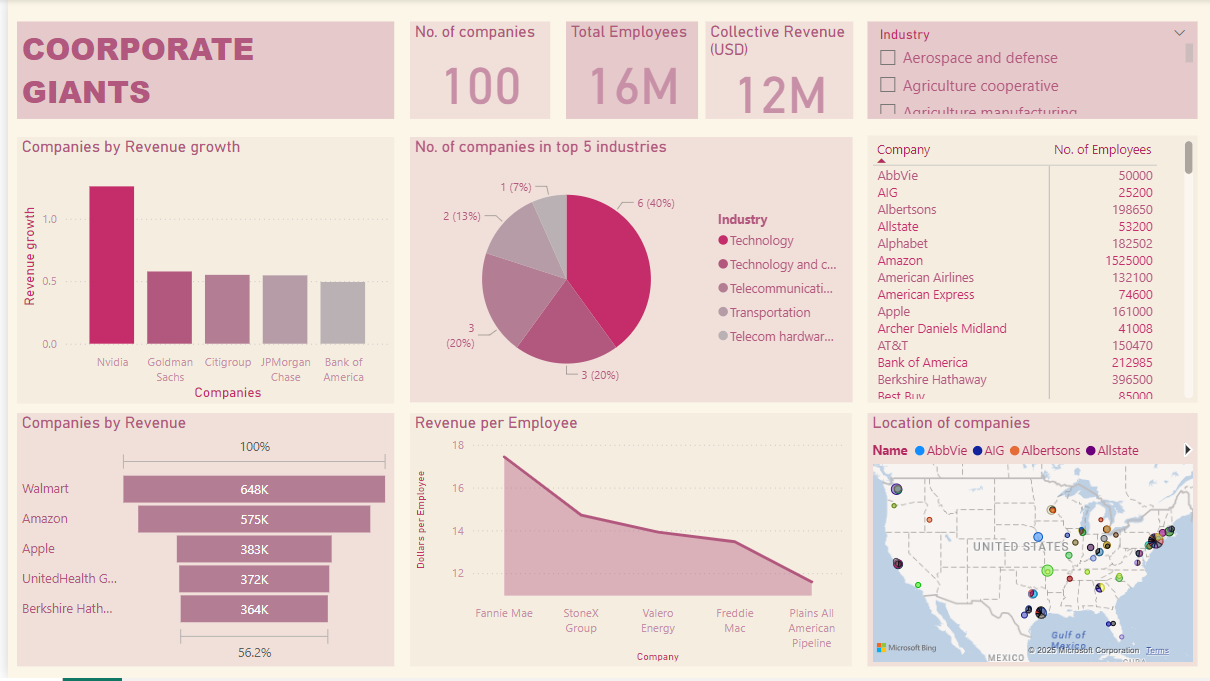

Layout of this report page (visuals, bound fields, positions):
{"tool":"powerbi","page":{"name":"Page 1","canvas":[1280,720],"ordinal":0},"visuals":[{"type":"clusteredColumnChart","title":"Companies by Revenue growth","fields":{"Y":["Sum(WebScrape.Revenue growth)"],"Category":["WebScrape.Name"]},"box":[10,145.7,400,282.9],"z":0},{"type":"pivotTable","fields":{"Rows":["WebScrape.Name"],"Values":["Sum(WebScrape.Employees)"]},"box":[911.7,145,350,283.3],"z":1000},{"type":"pieChart","title":"No. of companies in top 5 industries","fields":{"Y":["CountNonNull(WebScrape.Industry)"],"Category":["WebScrape.Industry"]},"box":[426.3,146.3,469.2,281.5],"z":2000},{"type":"funnel","title":"Companies by Revenue","fields":{"Category":["WebScrape.Name"],"Y":["Sum(WebScrape.Revenue (USD millions))"]},"box":[10,438.3,400,268.3],"z":3000},{"type":"card","title":"No. of companies","fields":{"Values":["Count(WebScrape.Name)"]},"box":[426.7,23.3,148.3,103.3],"z":4000},{"type":"card","title":"Total Employees","fields":{"Values":["Sum(WebScrape.Employees)"]},"box":[591.7,23.3,140,103.3],"z":5000},{"type":"card","title":"Collective Revenue (USD)","fields":{"Values":["Sum(WebScrape.Revenue (USD millions))"]},"box":[740,23.3,156.7,103.3],"z":6000},{"type":"stackedAreaChart","title":"Revenue per Employee ","fields":{"Category":["WebScrape.Name"],"Y":["WebScrape.Revenue per Employee"]},"box":[426.7,438.3,468.3,268.3],"z":7000},{"type":"map","title":"Location of companies","fields":{"Category":["WebScrape.Headquarters"],"Series":["WebScrape.Name"],"Size":["Sum(WebScrape.Revenue (USD millions))"]},"box":[911.7,438.3,350,268.3],"z":8000},{"type":"slicer","fields":{"Values":["WebScrape.Industry"]},"box":[911.7,23.3,350,103.3],"z":9000},{"type":"textbox","box":[10,23.3,400,103.3],"z":10000}]}

Visuals, with their boxes in screenshot pixels (x1, y1, x2, y2), scaled from the page's 1280x720 canvas onto the 1210x681 screenshot:
"Companies by Revenue growth" clusteredColumnChart: {"left": 9, "top": 138, "right": 388, "bottom": 405}
pivotTable - WebScrape.Name x Sum(WebScrape.Employees): {"left": 862, "top": 137, "right": 1193, "bottom": 405}
"No. of companies in top 5 industries" pieChart: {"left": 403, "top": 138, "right": 847, "bottom": 405}
"Companies by Revenue" funnel: {"left": 9, "top": 415, "right": 388, "bottom": 668}
"No. of companies" card: {"left": 403, "top": 22, "right": 544, "bottom": 120}
"Total Employees" card: {"left": 559, "top": 22, "right": 692, "bottom": 120}
"Collective Revenue (USD)" card: {"left": 700, "top": 22, "right": 848, "bottom": 120}
"Revenue per Employee " stackedAreaChart: {"left": 403, "top": 415, "right": 846, "bottom": 668}
"Location of companies" map: {"left": 862, "top": 415, "right": 1193, "bottom": 668}
slicer - WebScrape.Industry: {"left": 862, "top": 22, "right": 1193, "bottom": 120}
textbox: {"left": 9, "top": 22, "right": 388, "bottom": 120}
